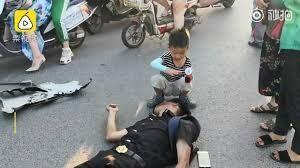Fall-Detected: (10, 90, 197, 166)
